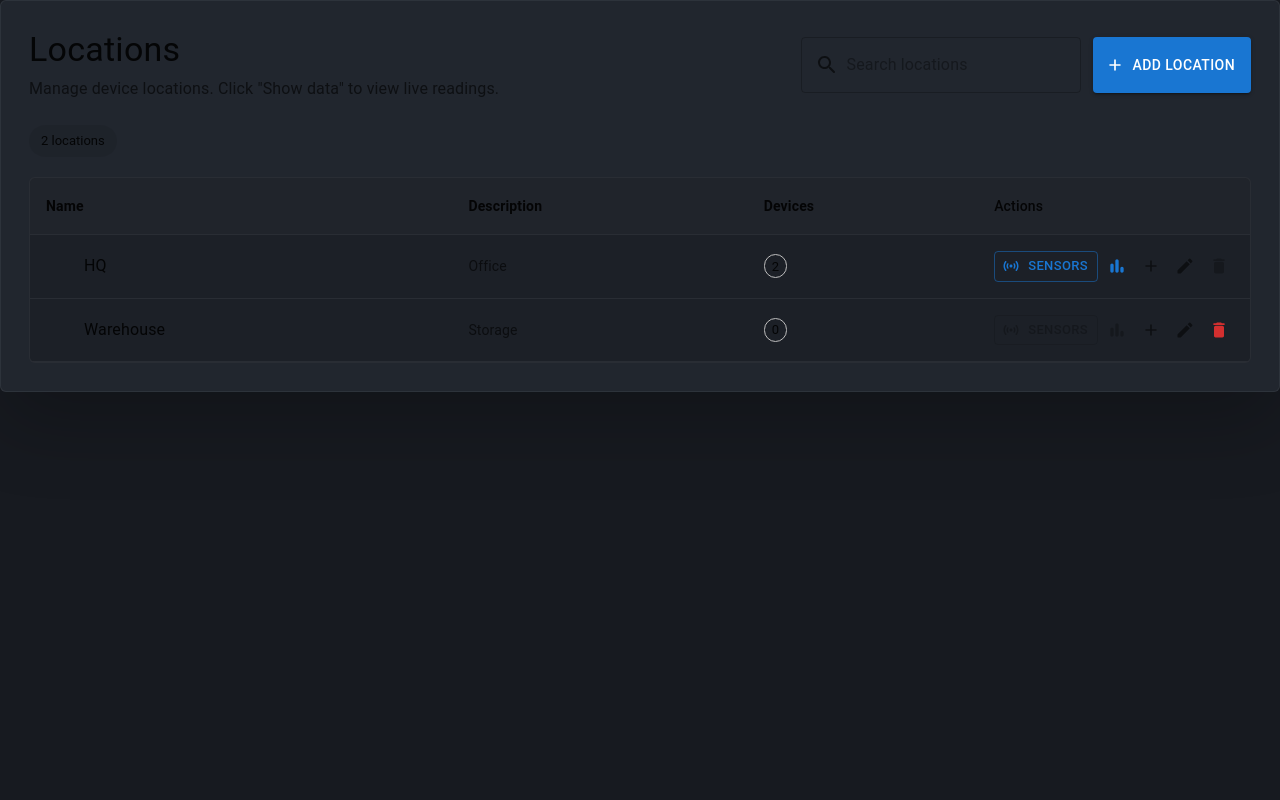
it: LocationsView › Shall_show_parent_location_select_in_create_dialog
Check: the text "HQ" is shown, box [84,254,107,278]
Click the button "Add location".
click(1172, 65)  # box [1093,37,1251,93]
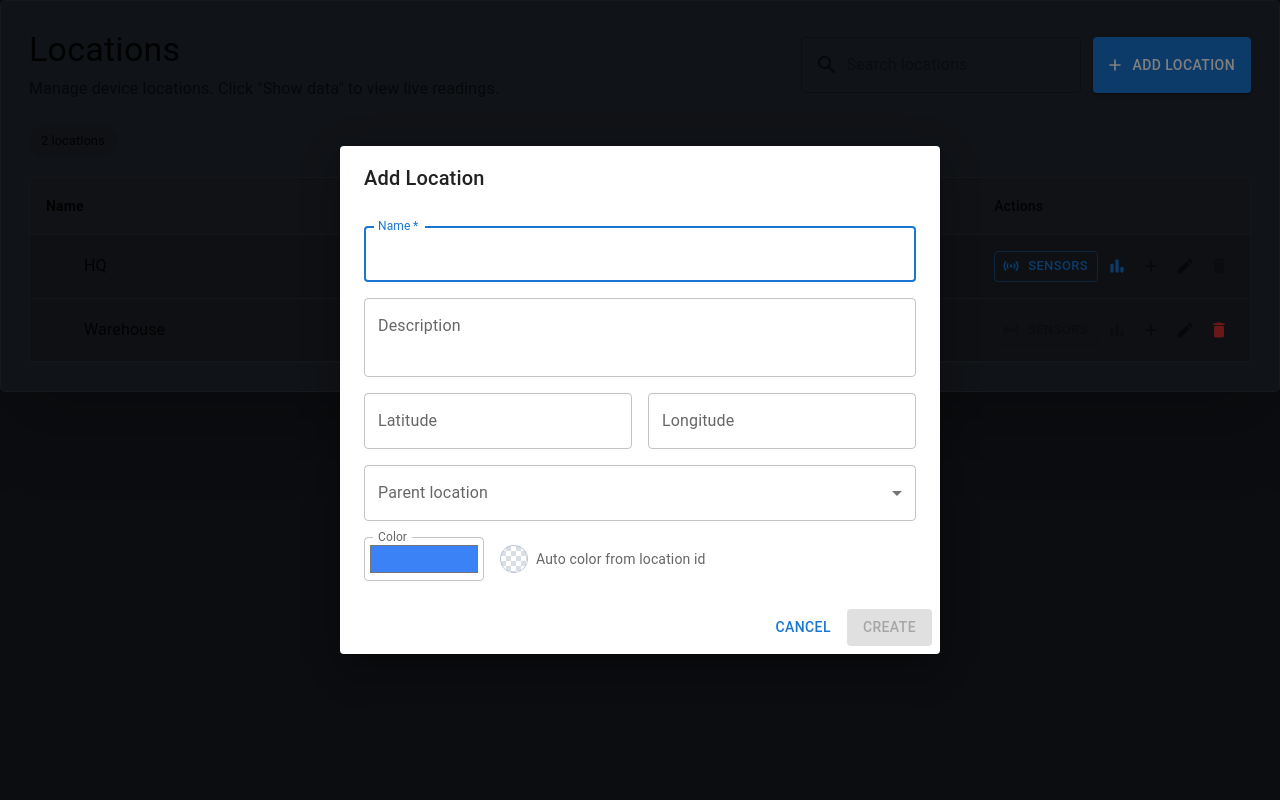
Check: the dropdown named "Parent location" is shown, box [364,465,916,521]
